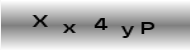4: (93, 17, 108, 30)
P: (139, 21, 155, 35)
X: (31, 13, 48, 28)
x: (61, 23, 77, 34)
y: (120, 25, 135, 39)
